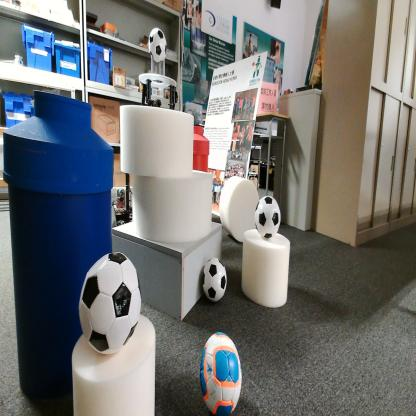ball: (80, 253, 142, 355), (200, 332, 242, 416), (200, 258, 227, 301), (256, 197, 280, 240), (149, 29, 166, 60)
